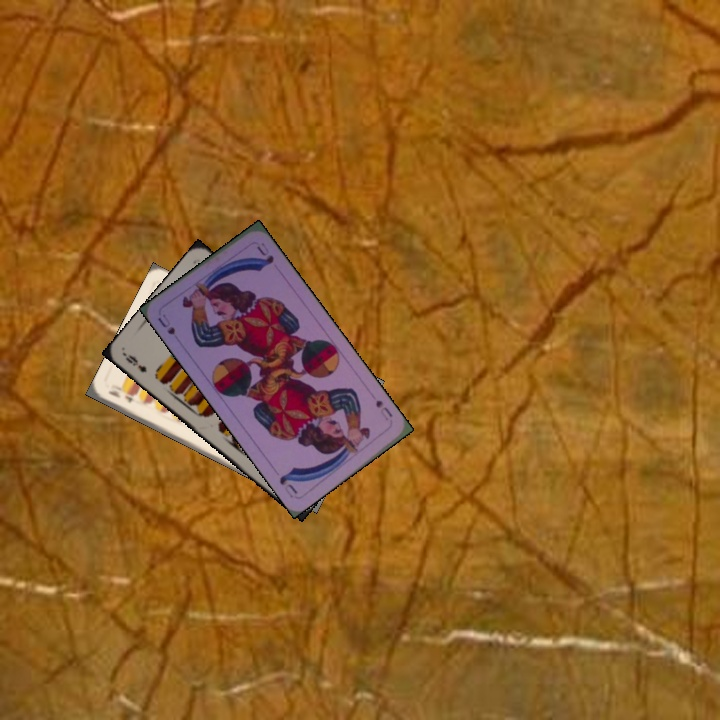E10: (104, 386, 136, 405)
E9: (121, 350, 149, 375)
SU: (153, 310, 178, 337), (371, 396, 395, 423)
